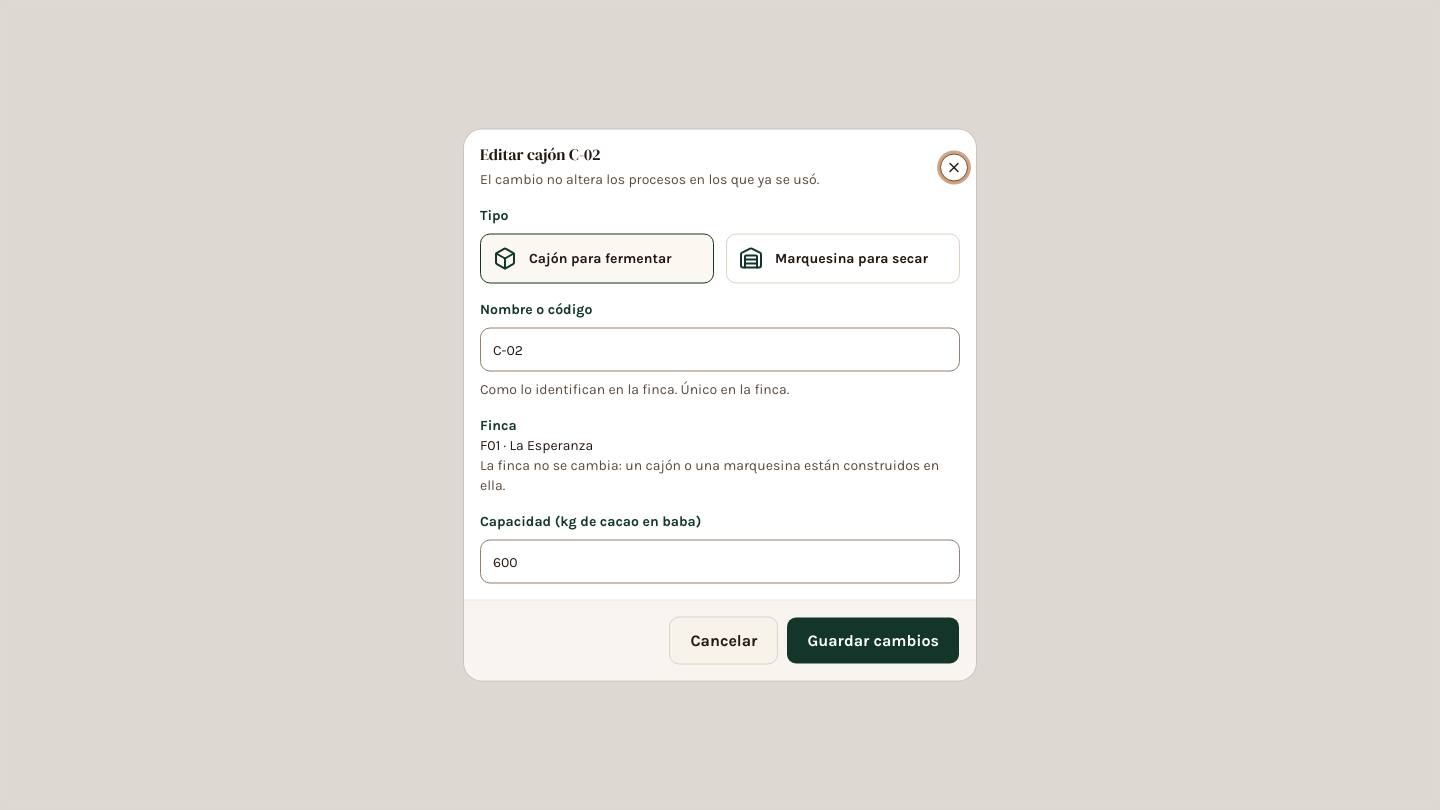
Test: editing a facility › loads the current values when someone else changed it first
Replace the text in the field labelled "Capacidad (kg de cacao en baba)" with "650" at (720, 562), box 480,540 -> 960,584
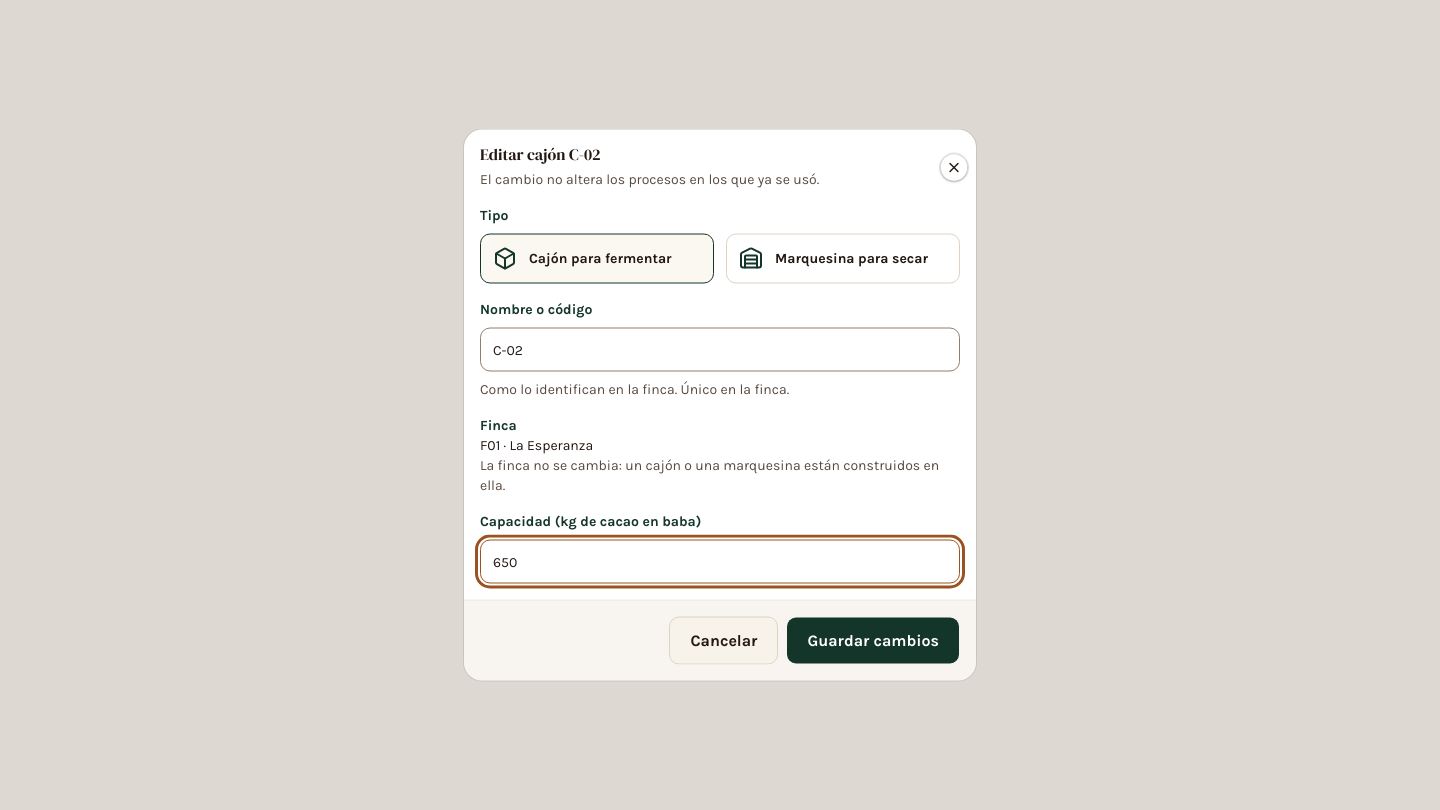
Click the button "Guardar cambios".
click(873, 640)  # box 786,616 -> 960,664
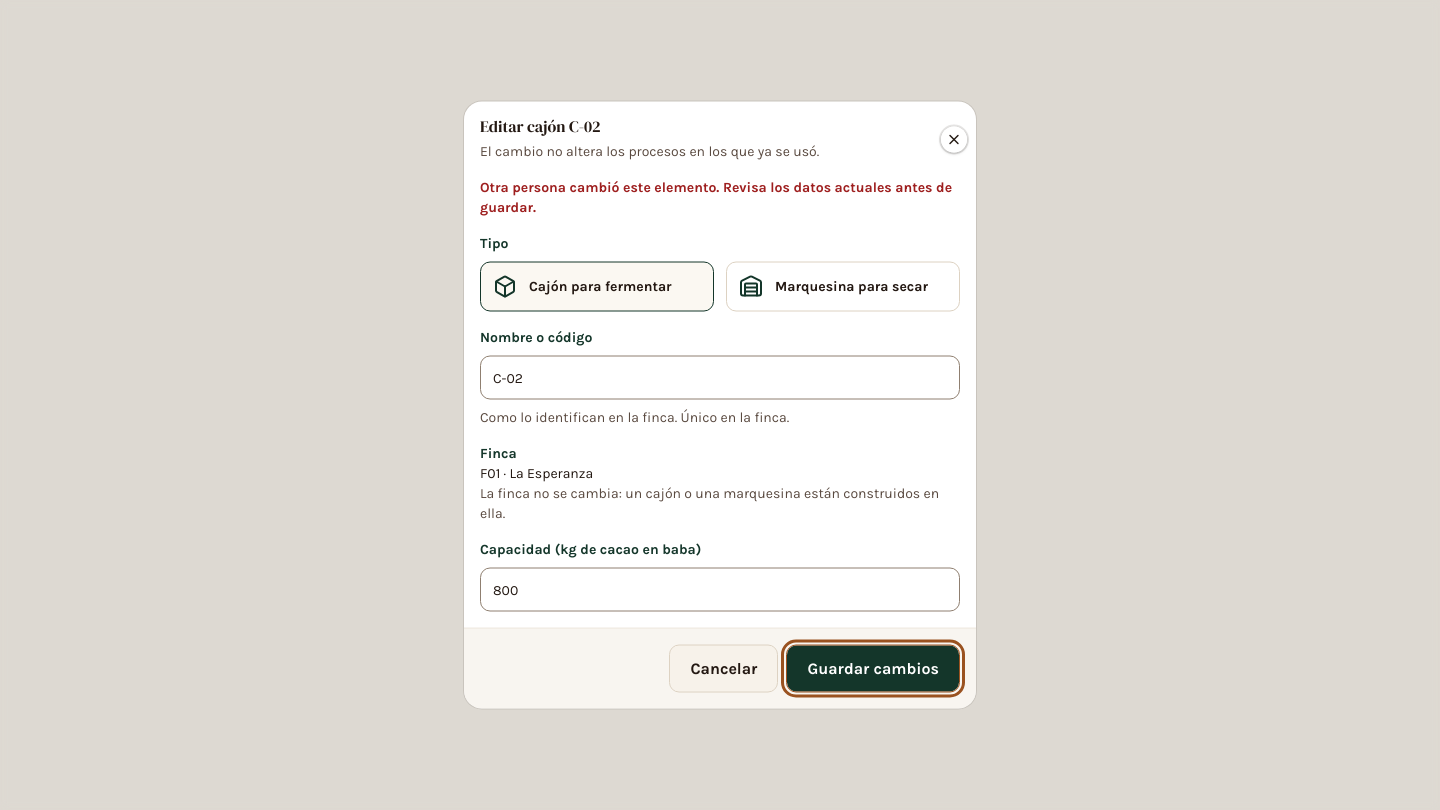
Expected: the text "Otra persona cambió este elemento. Revisa los datos actuales antes de guardar." is shown, 480,178 -> 960,218
Expected: the field labelled "Capacidad (kg de cacao en baba)" holds "800", 480,568 -> 960,612
